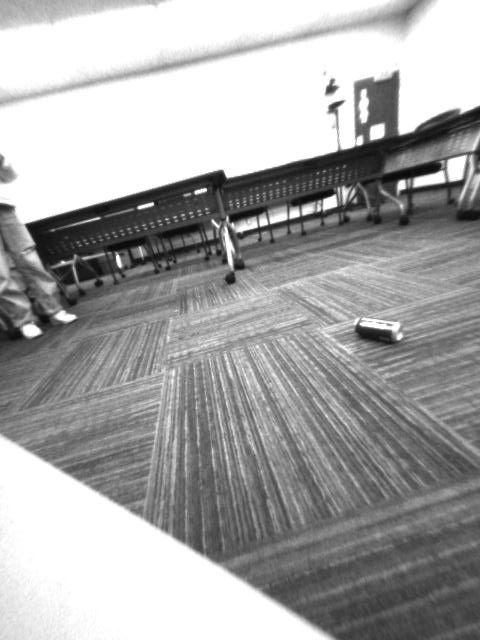can: (348, 312, 412, 349)
